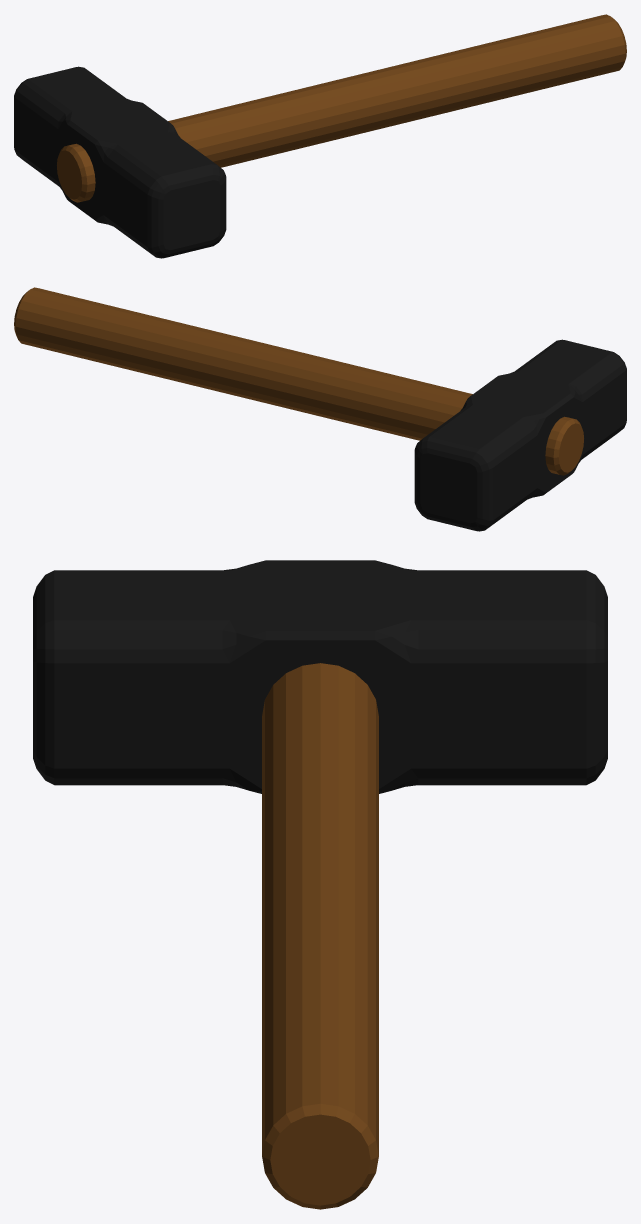
Rendered from Hammer_final.fbx.
3 renders of one model, top to bottom at view 1: azimuth 30°, elevation 25°; view 2: azimuth 150°, elevation 25°; view 3: azimuth 270°, elevation 25°, orthographic. The views are drawn at different scales.
Parts seen in each view (by area): view 1: Handle; view 2: Handle; view 3: Handle.
Part boxes in pixels (x1=…): Handle: x1=14, y1=14, x2=626, y2=258; Handle: x1=14, y1=287, x2=626, y2=531; Handle: x1=33, y1=560, x2=607, y2=1209.
Size of the model in its own units: 13.89 by 2 by 6.34.
